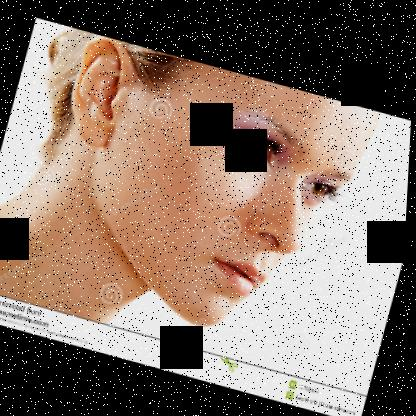Female: (23, 27, 383, 354)
